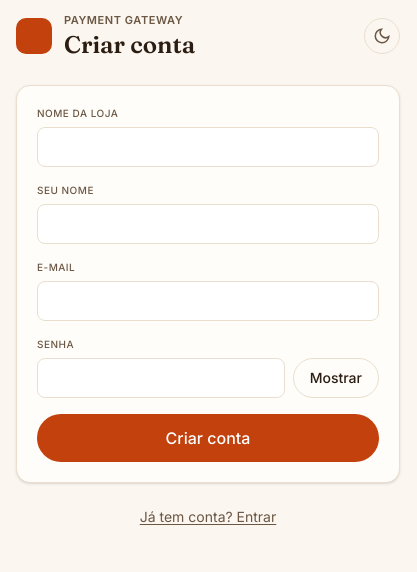
Scenario: passwords › noPasswordSurvivesAFailed signup 422
Type "Loja da Ana" into the field labelled "Nome da loja".
click(208, 146); type("Loja da Ana")  # box [37,126,379,166]
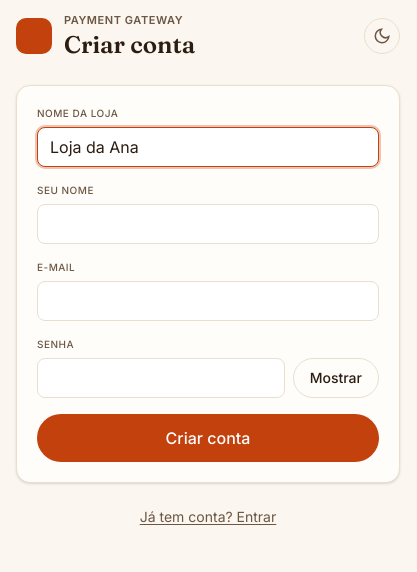
Type "Ana" into the field labelled "Seu nome".
click(208, 224); type("Ana")  # box [37,204,379,244]
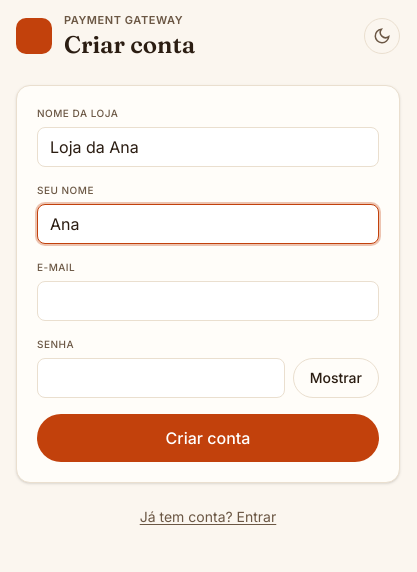
Type "ana@loja.com" into the field labelled "E-mail".
click(208, 300); type("ana@loja.com")  # box [37,280,379,320]
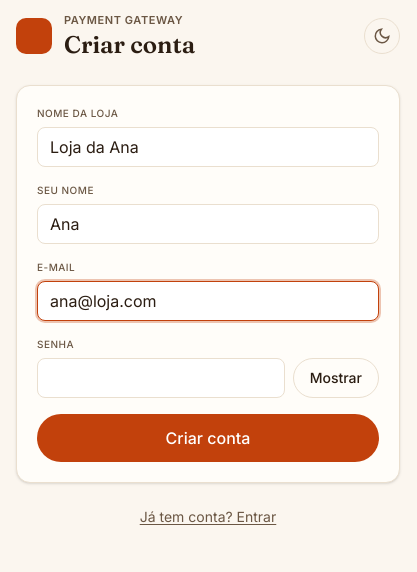
Type "senha-unica-xyz" into the password field labelled "Senha".
click(161, 378); type("senha-unica-xyz")  # box [37,358,285,398]
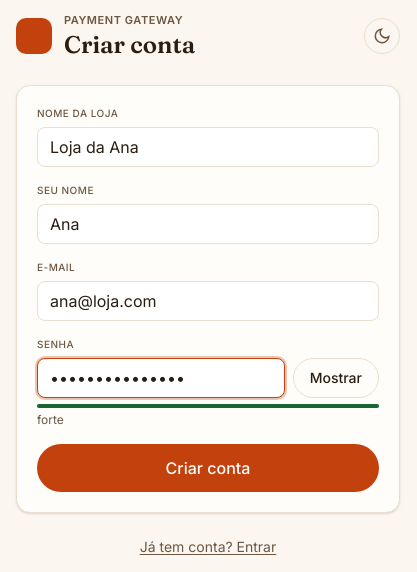
Click the button "Criar conta".
click(208, 468)  # box [37,444,379,492]
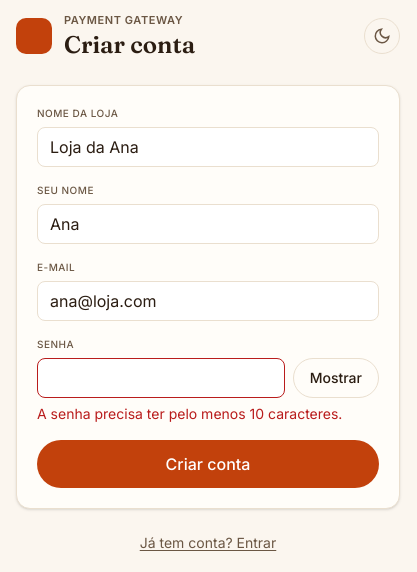
Now the text "A senha precisa ter pelo menos 10 caracteres." is shown, box [37,404,379,424]
